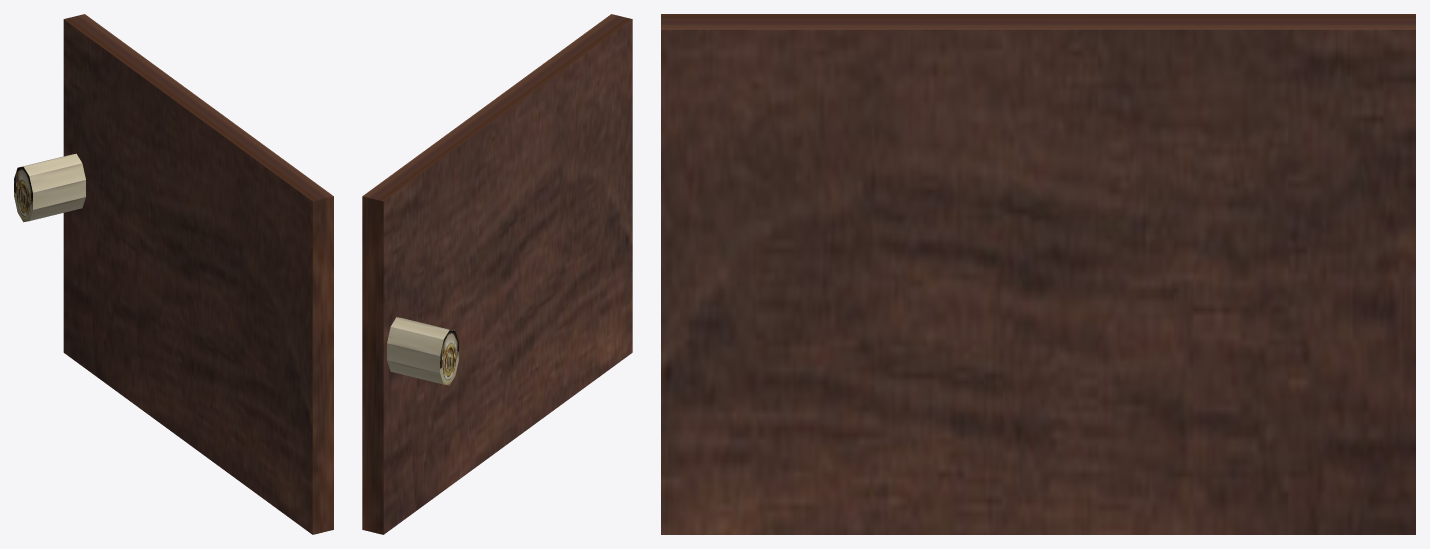
File: puerta1_registradora.obj
The picture shows the model from 3 angles, left to right: view 1: azimuth 30°, elevation 25°; view 2: azimuth 150°, elevation 25°; view 3: azimuth 270°, elevation 25°; orthographic projection. The views are drawn at different scales.
Parts seen in each view (by area): view 1: Puerta4; view 2: Puerta4; view 3: Puerta4.
Part boxes in pixels (x1,y1,x2,y2): Puerta4: (14,14,333,534); Puerta4: (362,14,632,534); Puerta4: (661,14,1415,534).
Bounding box in the file's own units: 0.084 × 0.36 × 0.4875.
Materials: 2 (2 with a texture image).
